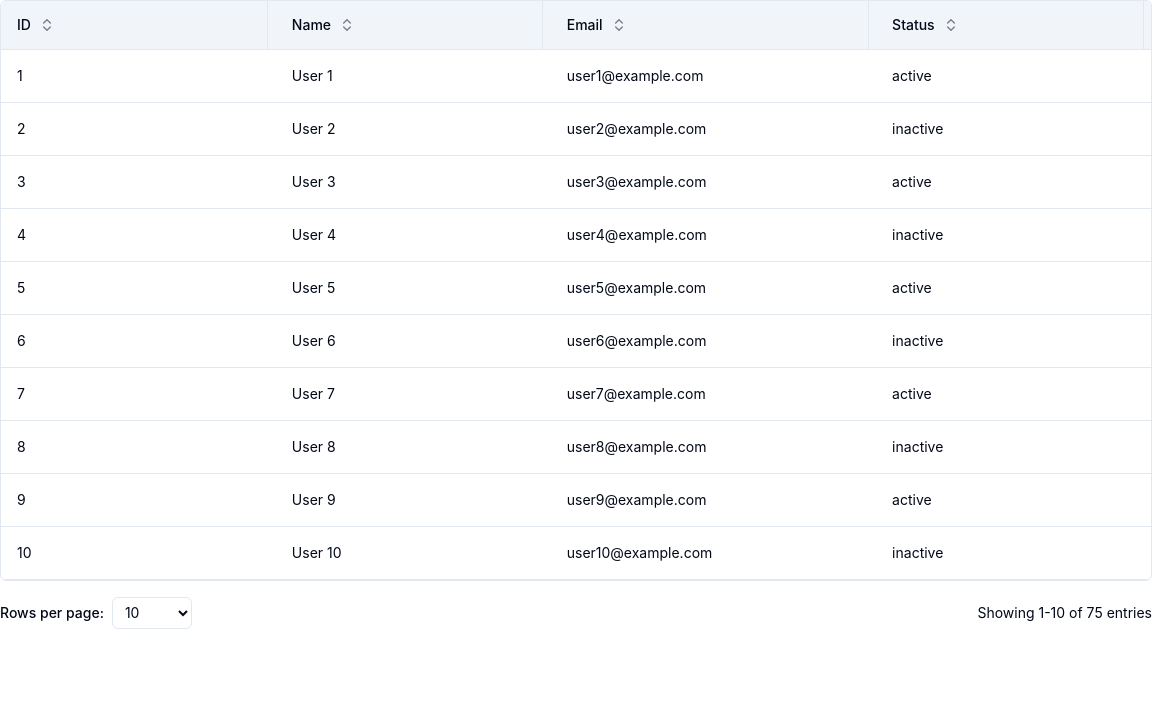
DataTable Pagination › Page size selector › should update table when page size changes
The image size is (1152, 720).
Check: the text "Showing 1-10 of 75 entries" is shown, box [977,602,1151,622]
Select "25" in the dropdown labelled "Rows per page:" at (152, 612), box [112,596,192,628]
(page scrolled)
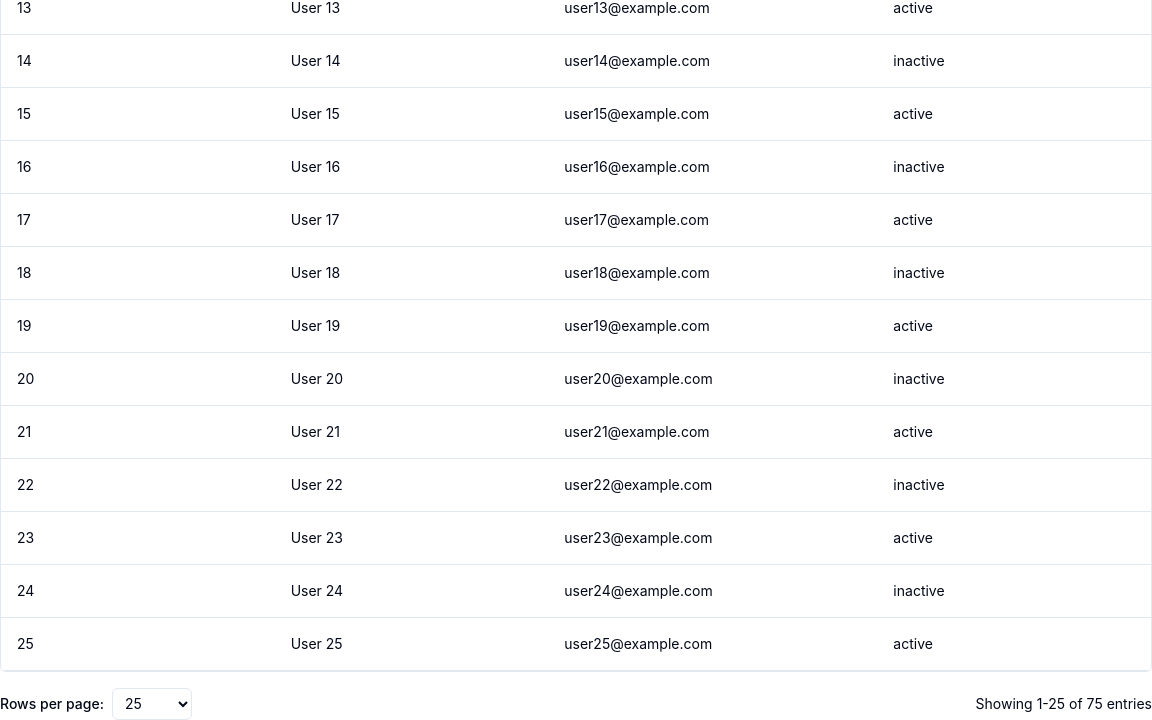
Check: the text "Showing 1-25 of 75 entries" is shown, box [976,694,1151,714]
